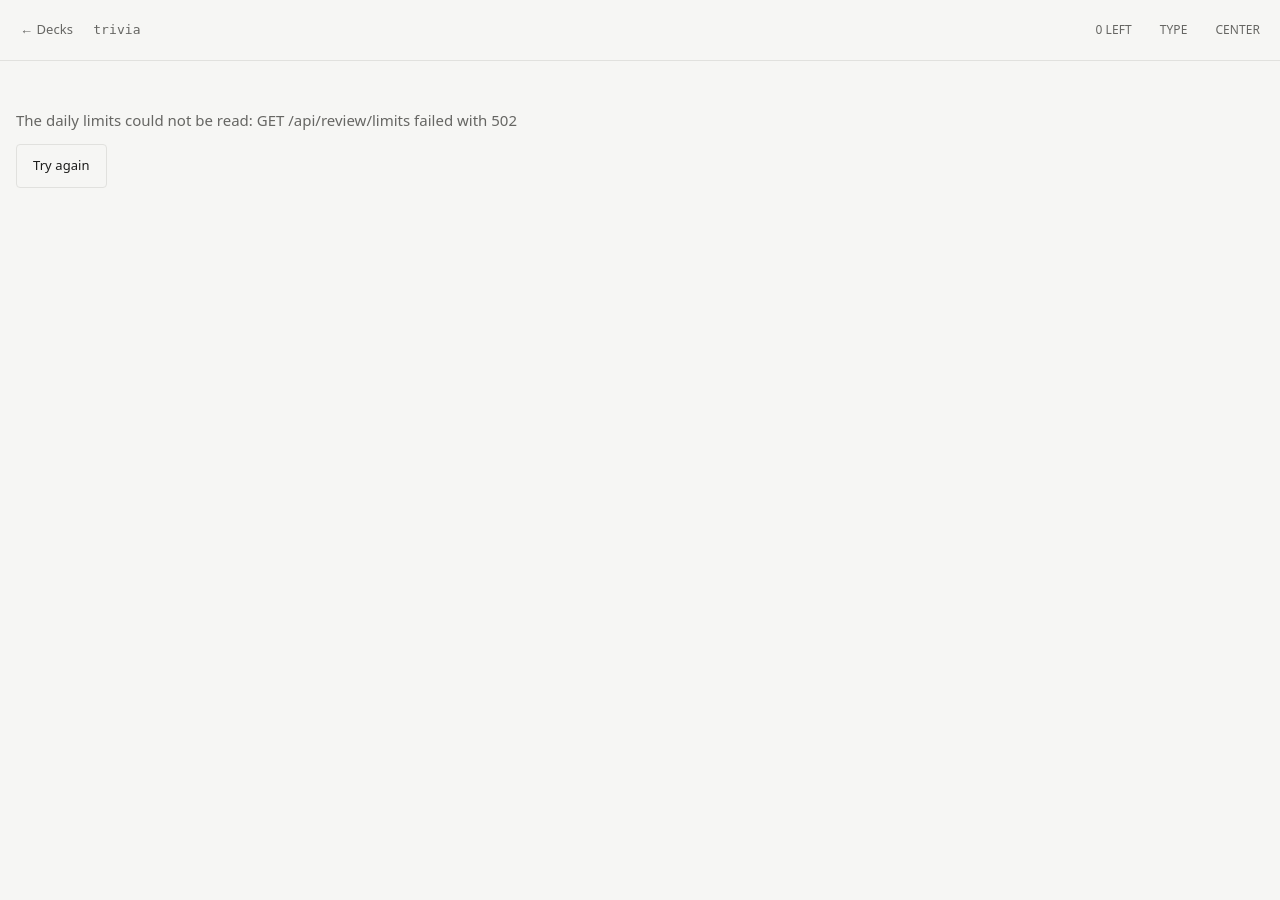
Test: a sitting whose daily limits read failed for good can try again (#1167) › #1167 I2 after a limits Try again answered a rating whose write fails shows its alert with no Try again
The width and height of the screenshot is (1280, 900).
Click the button "Try again" at (61, 166), box [16, 144, 107, 188]
Wait 100 ms
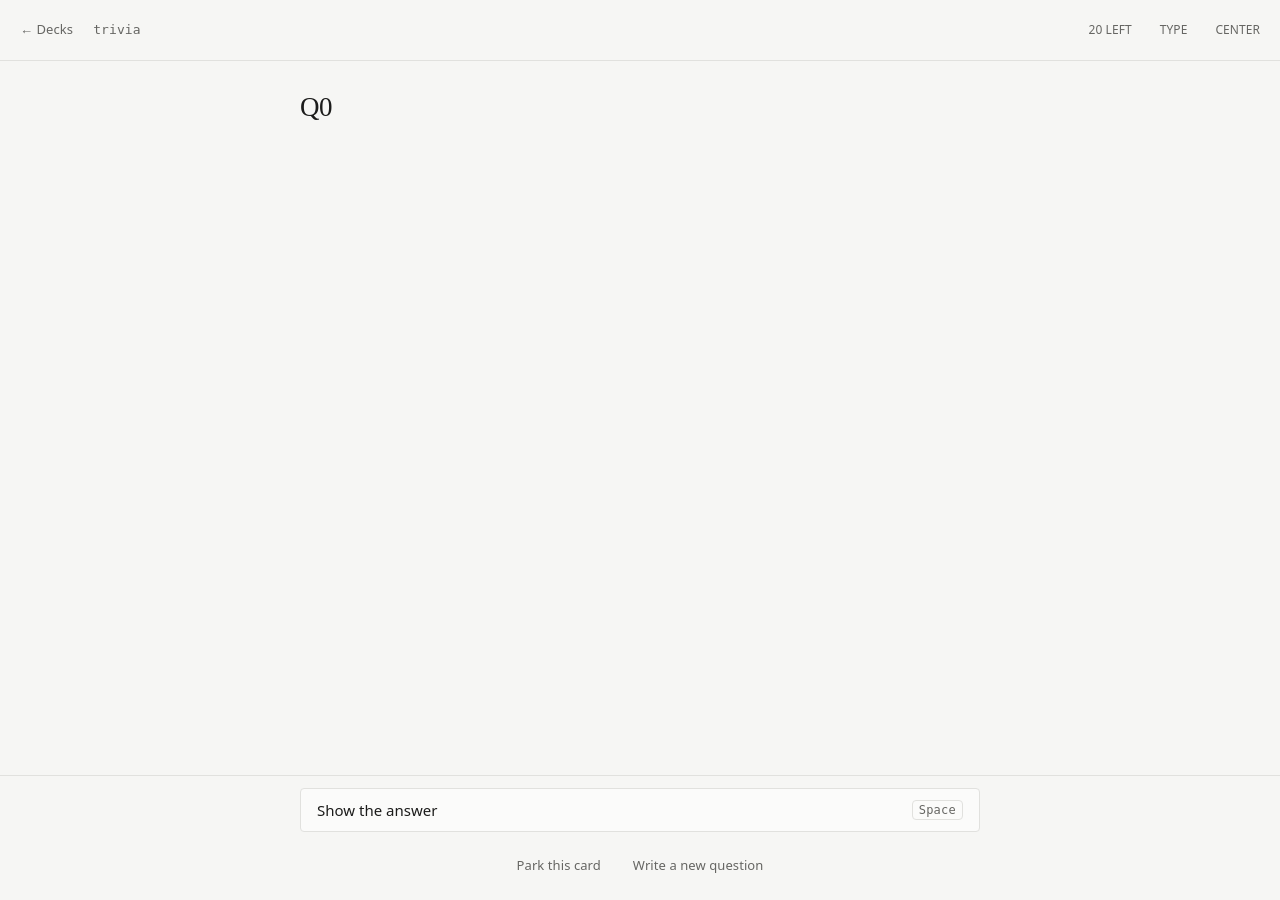
Expected: the element with test id "review-card" is shown, [300, 92, 332, 122]
Click the button "Show the answer Space" at (377, 810), box [300, 788, 980, 832]
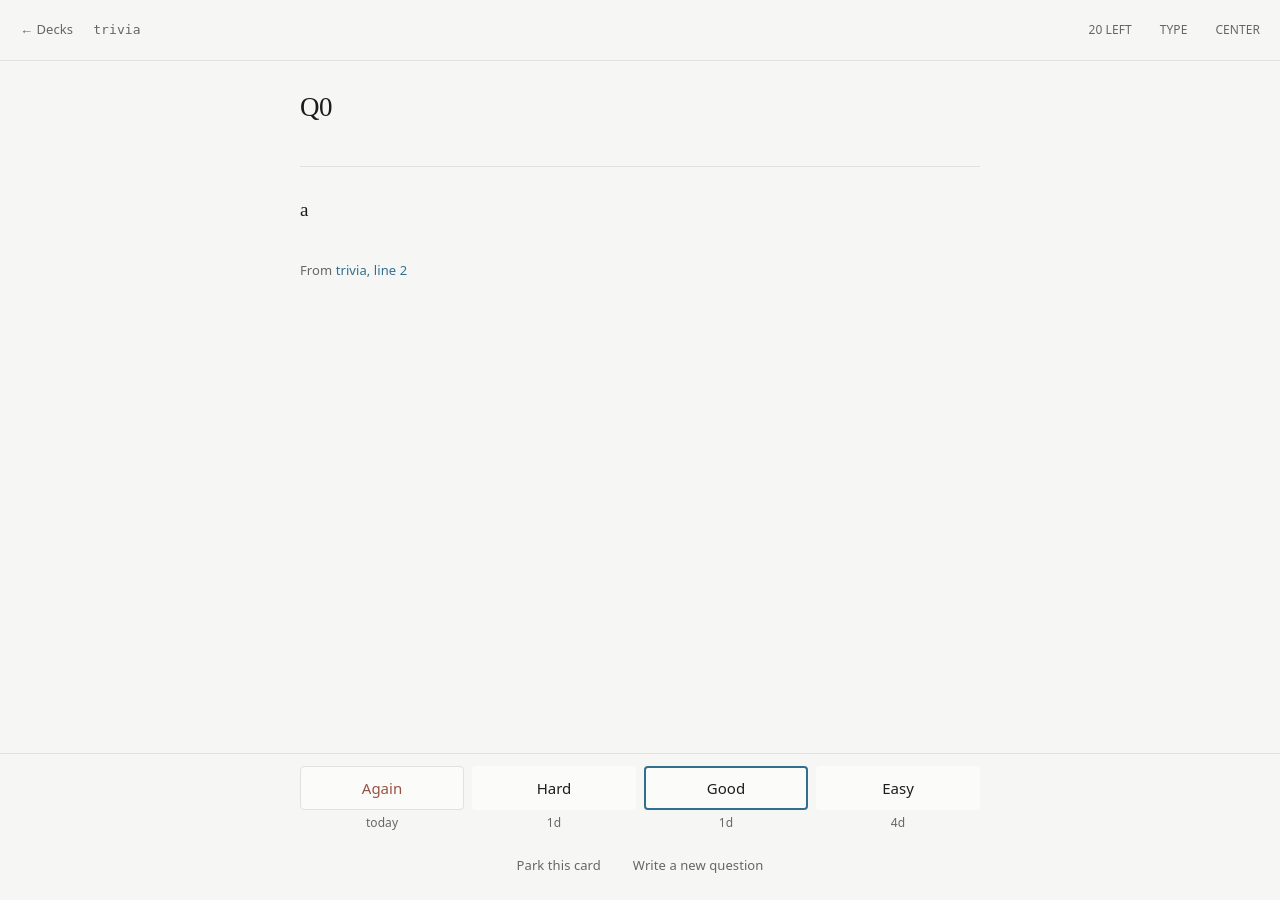
Click the button "Good" at (726, 788), box [644, 766, 808, 810]
Wait 100 ms
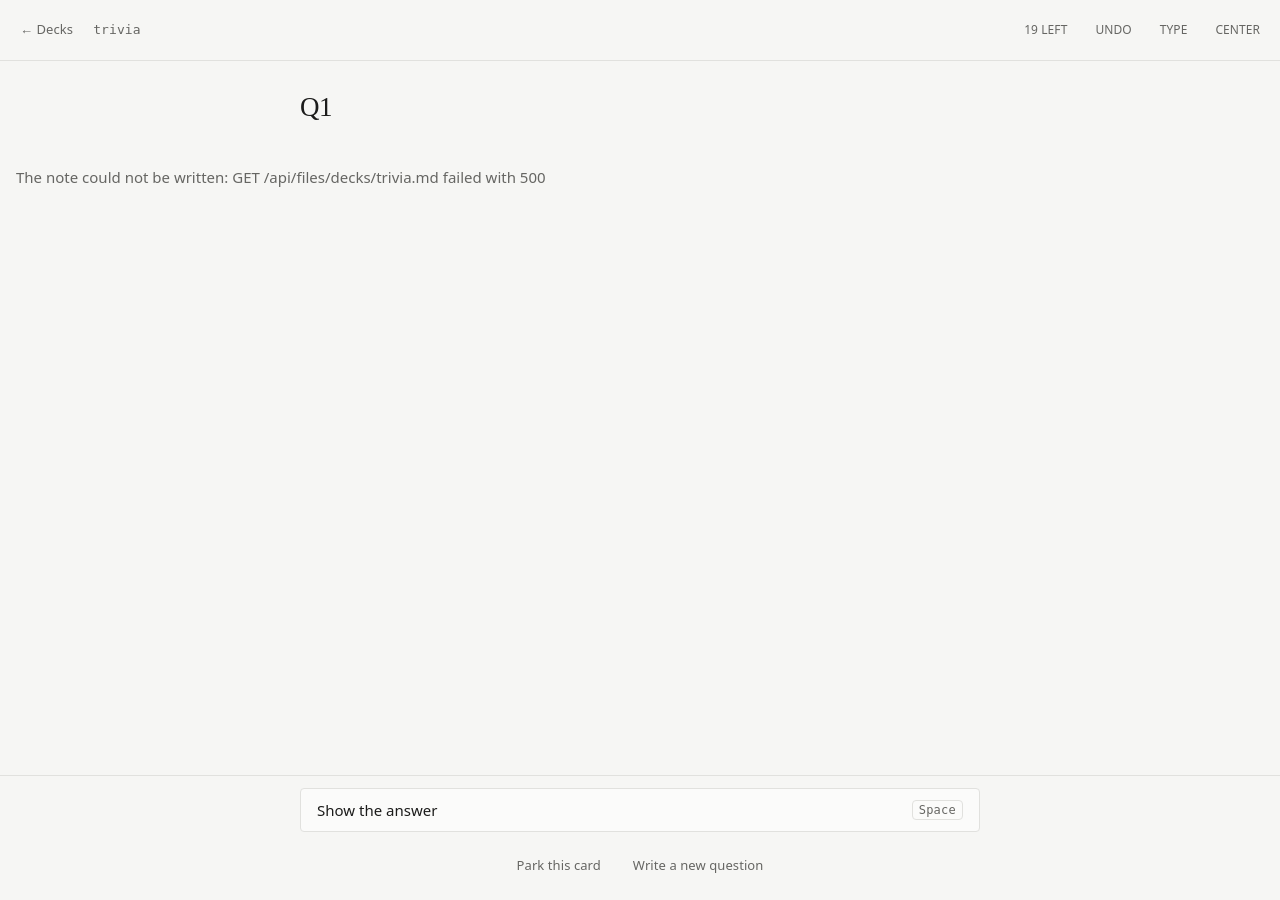
Expected: the button "Try again" is not shown
Expected: the message shows "The note could not be written", [16, 167, 546, 187]
